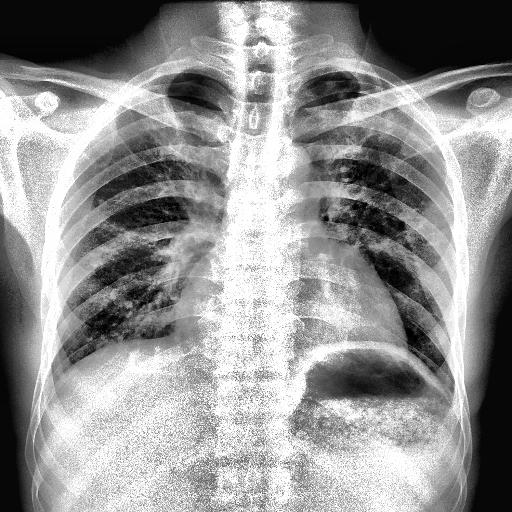13- Pulmonary fibrosis: (316, 83, 410, 169), (306, 79, 409, 155), (320, 74, 410, 142), (410, 199, 440, 268), (98, 158, 129, 206)
3- Cardiomegaly: (172, 272, 408, 358), (171, 296, 407, 378)
6- Infiltration: (316, 83, 410, 169)
7- Lung Opacity: (418, 214, 447, 248)
9- Other lesion: (410, 199, 440, 268), (98, 158, 129, 206)
